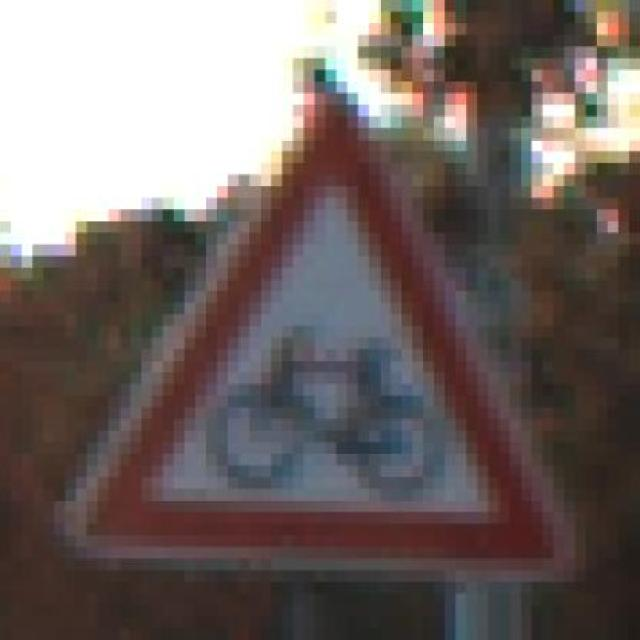CYCLE ROUTE AHEAD WARNING: (43, 69, 575, 594)
